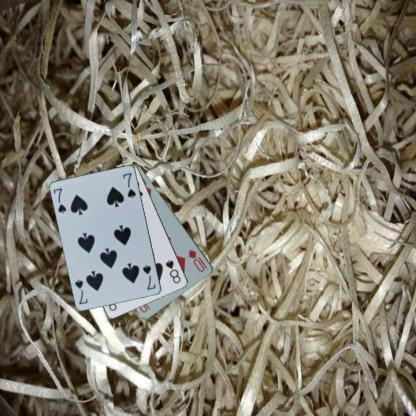10d: (186, 248, 209, 274)
7s: (140, 262, 158, 292), (50, 185, 68, 215)
8s: (163, 257, 182, 285)
